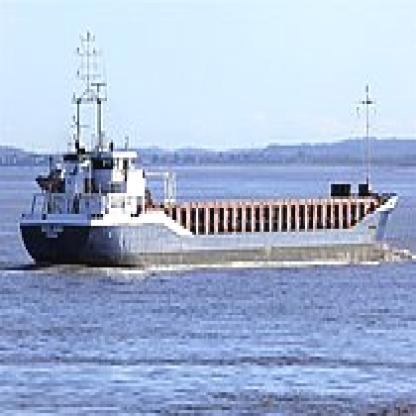Tanker: (23, 134, 398, 298)
